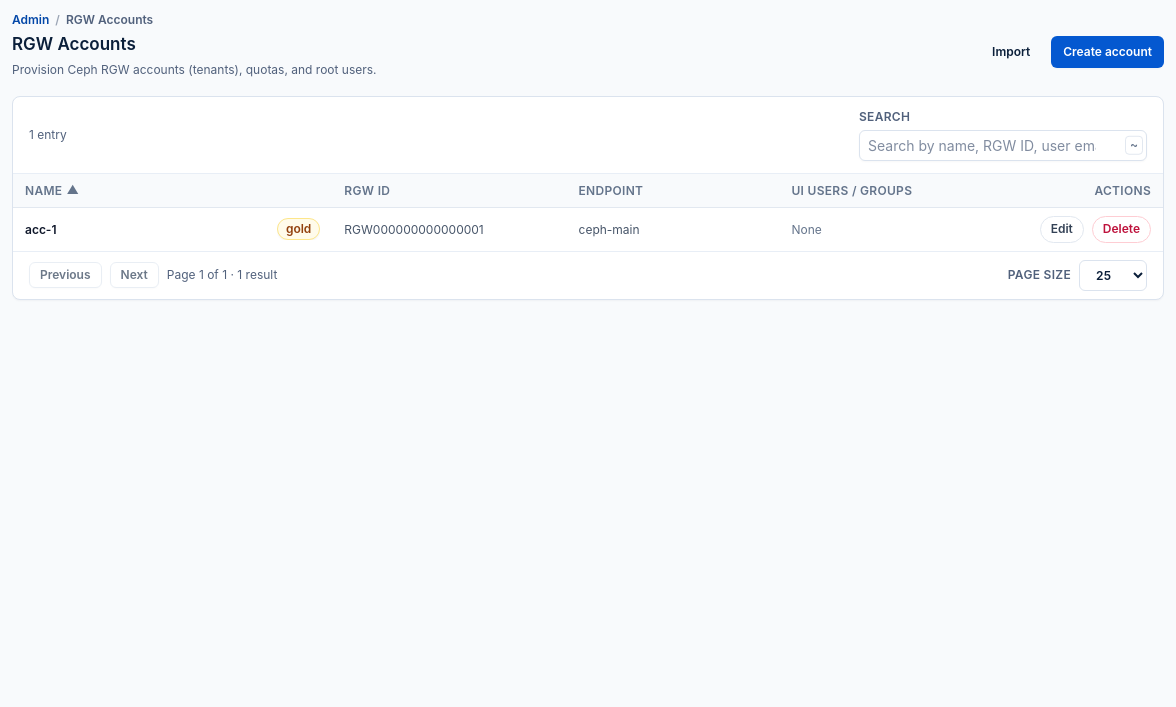
Test: AccountsPage modal tabs › requires the Admin Ops buckets write capability before enabling bucket quota management
The width and height of the screenshot is (1176, 707).
Expected: the text "acc-1" is shown, [25,222,56,236]
Click the button "Edit".
click(1062, 229)  # box [1040,216,1084,243]
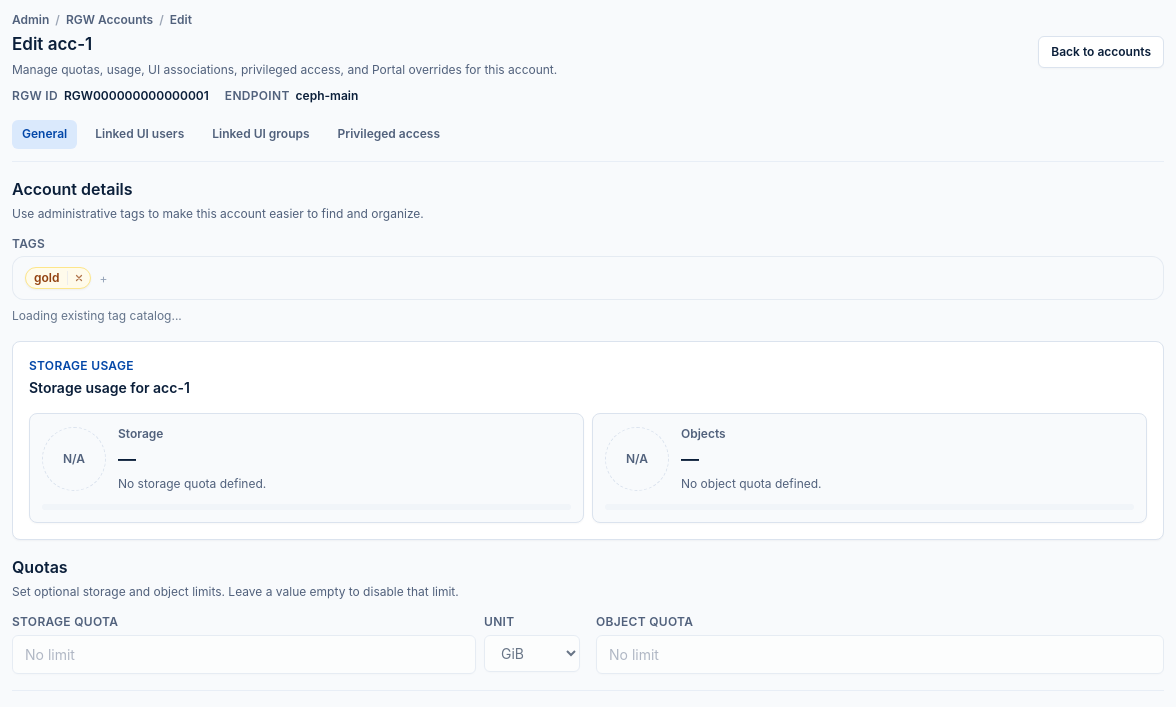
Click the tab "Privileged access".
click(389, 134)  # box [328,120,450,148]
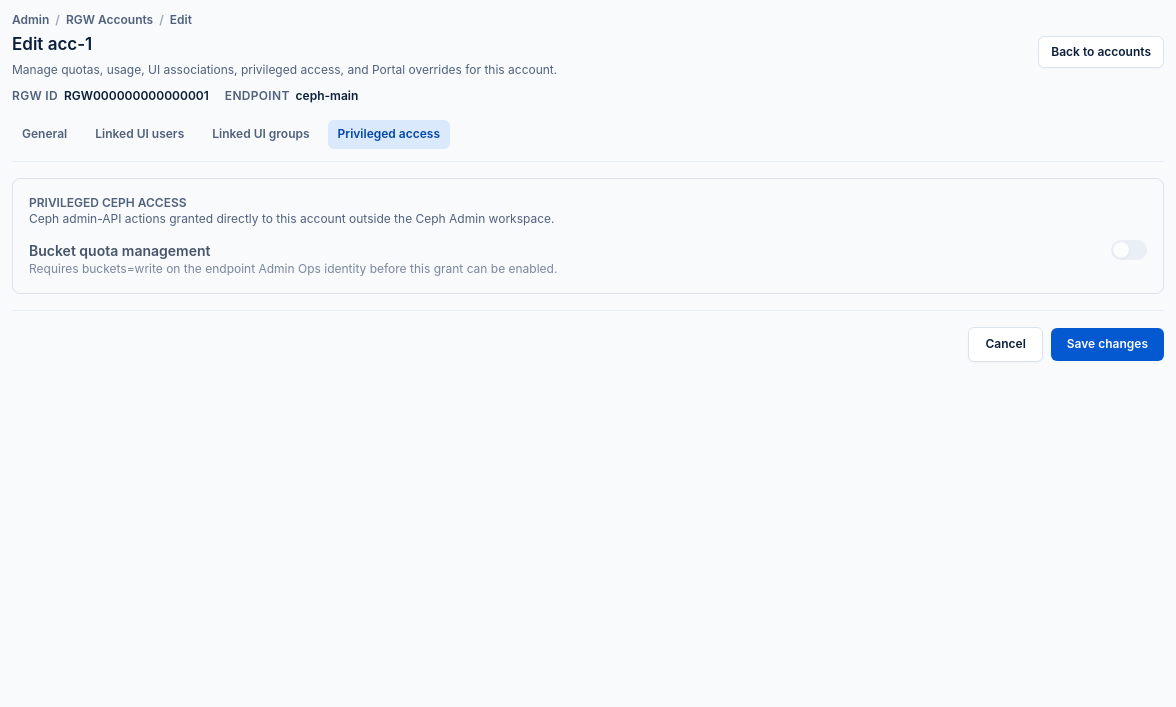
Expected: the checkbox named "Bucket quota management" is disabled, [1111,240,1147,260]
Now the text "Requires buckets=write on the endpoint Admin Ops identity before this grant can be enabled." is shown, box [29,260,557,276]
